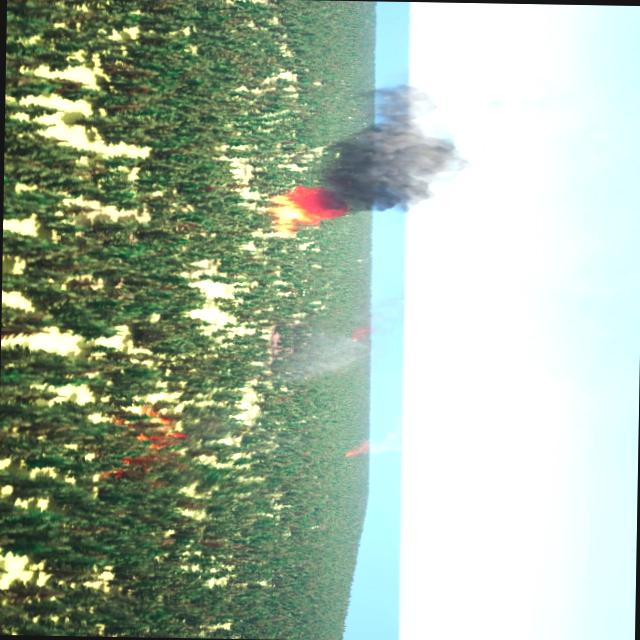fire: (118, 410, 190, 479), (266, 186, 345, 237)
smoke: (312, 78, 508, 219), (267, 322, 378, 380), (348, 432, 398, 458)
